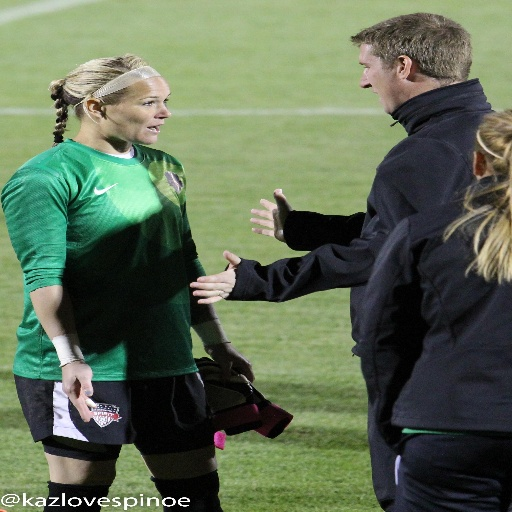hand: (188, 249, 261, 306), (59, 359, 100, 423), (242, 189, 305, 230), (204, 341, 256, 386)
